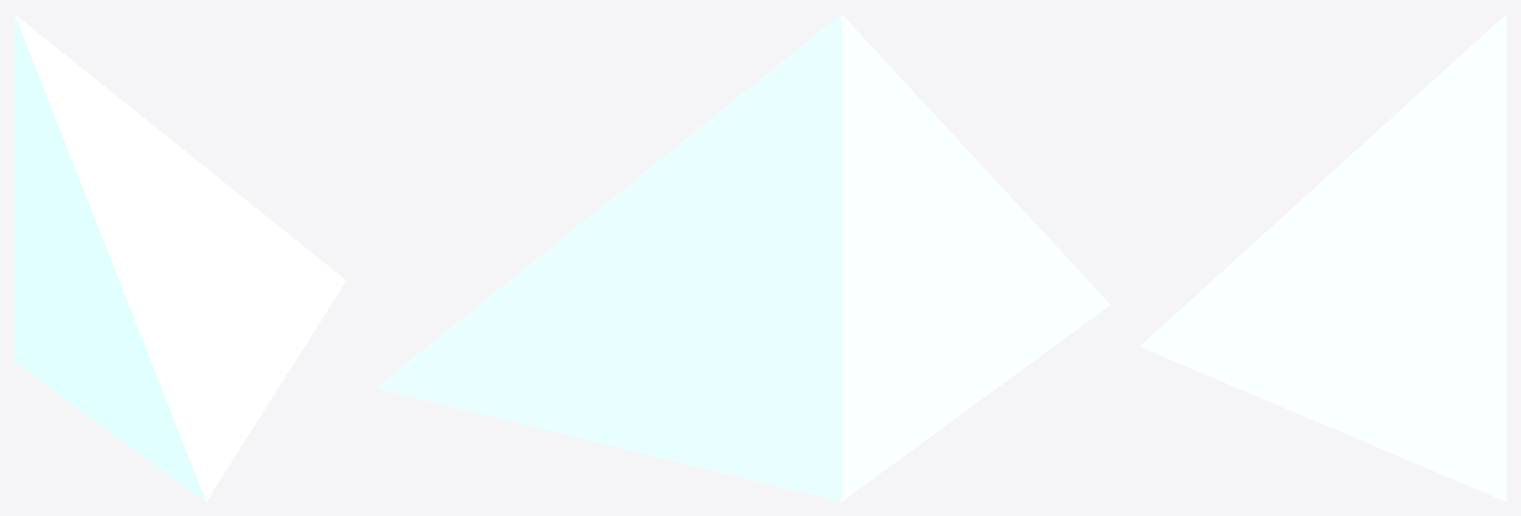
File: substrate.glb
3 views of the same model, side by side, from view 1: azimuth 30°, elevation 25°; view 2: azimuth 150°, elevation 25°; view 3: azimuth 270°, elevation 25° (orthographic). The views are drawn at different scales.
Visible parts, largest first — view 1: NodeSpheres; view 2: NodeSpheres; view 3: NodeSpheres.
Part boxes in pixels (x1,y1,x2,y2): NodeSpheres: (14, 14, 346, 501); NodeSpheres: (375, 14, 1110, 501); NodeSpheres: (1139, 14, 1506, 501).
Size of the model in its own units: 0.1 by 0.1 by 0.1.
